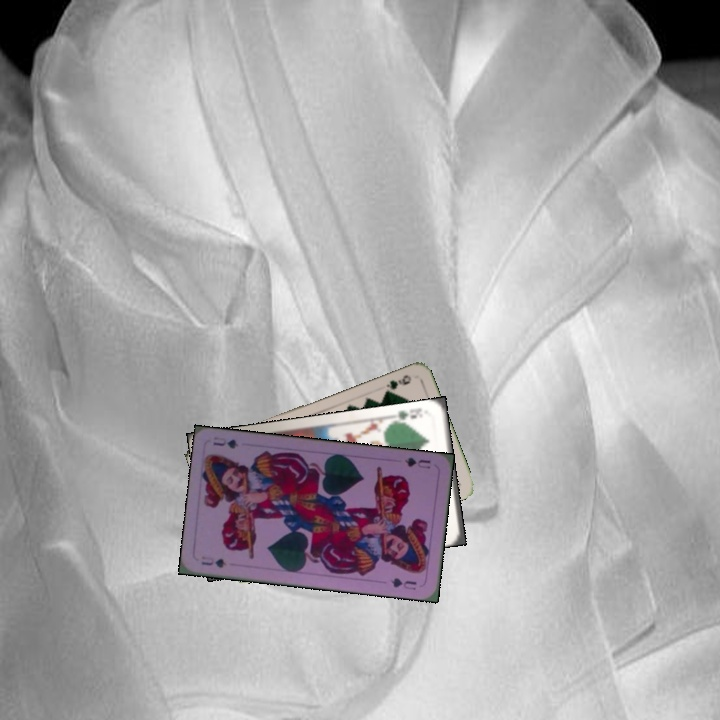G9: (382, 370, 414, 392)
GK: (391, 404, 424, 426)
GU: (400, 453, 433, 471), (197, 552, 229, 570)
